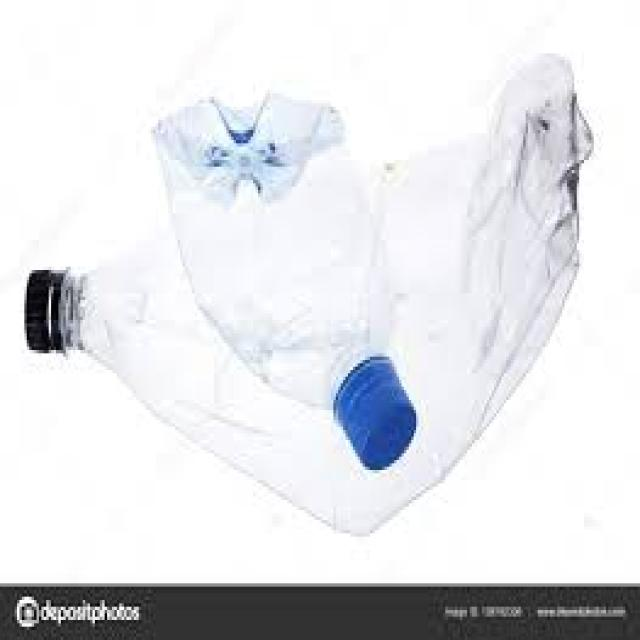Anorganik: (22, 50, 591, 533), (148, 90, 414, 467), (331, 350, 414, 470), (22, 267, 66, 350)
